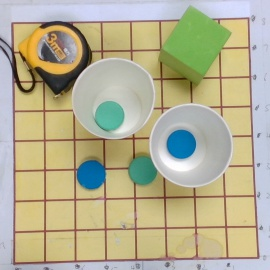blue: (77, 160, 106, 189)
cup_blue: (148, 103, 234, 188)
cup_green: (71, 57, 157, 141)
green: (128, 155, 159, 185)
